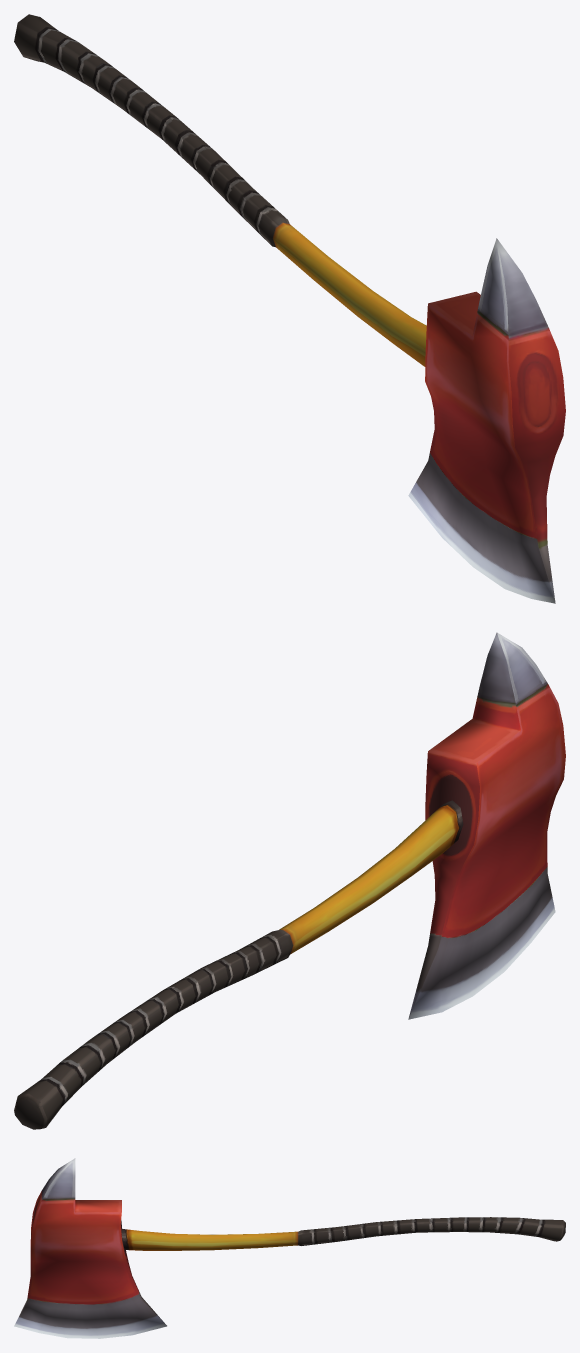
File: W016_0100_Skin.FBX
3 views of the same model, one above another, from view 1: azimuth 30°, elevation 25°; view 2: azimuth 150°, elevation 25°; view 3: azimuth 270°, elevation 25° (orthographic). The views are drawn at different scales.
Visible parts, largest first — view 1: W016; view 2: W016; view 3: W016.
Part boxes in pixels (left/top/right/bottom): W016: left=14, top=14, right=565, bottom=603; W016: left=14, top=632, right=565, bottom=1129; W016: left=14, top=1158, right=565, bottom=1338.
Size of the model in its own units: 6.36 by 39.29 by 109.
